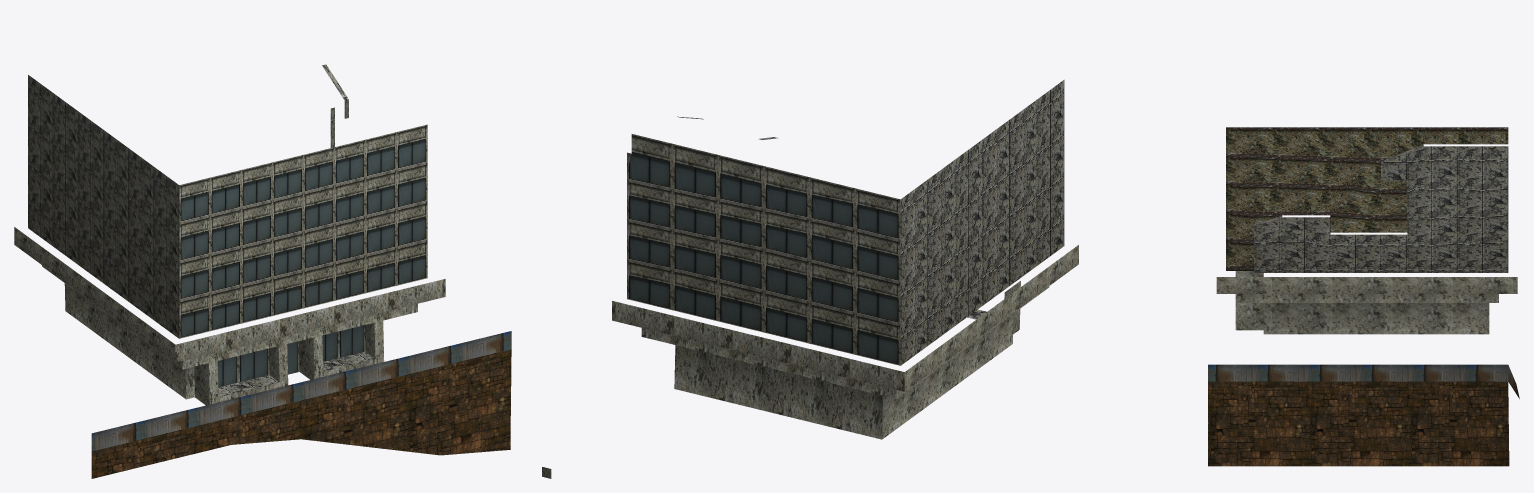
The model's file is M10_Z01_12_Tower.glb.
3 views of the same model, side by side, from view 1: azimuth 30°, elevation 25°; view 2: azimuth 150°, elevation 25°; view 3: azimuth 270°, elevation 25° (orthographic). The views are drawn at different scales.
Parts seen in each view (by area): view 1: M10_Z01_12_TOWER; view 2: M10_Z01_12_TOWER; view 3: M10_Z01_12_TOWER.
Part boxes in pixels (x1=…): M10_Z01_12_TOWER: x1=14, y1=64, x2=511, y2=478; M10_Z01_12_TOWER: x1=542, y1=80, x2=1078, y2=478; M10_Z01_12_TOWER: x1=1208, y1=127, x2=1519, y2=466.
Size of the model in its own units: 49 by 36.82 by 33.12.
6 materials, 6 textured.
